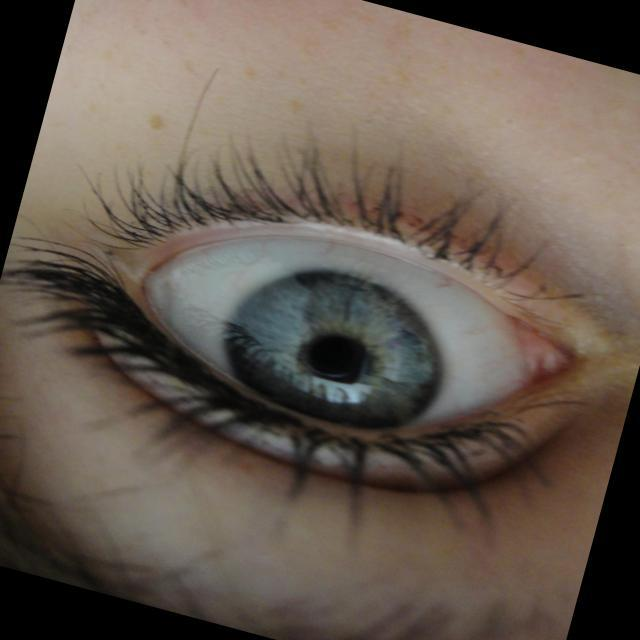Normal: (43, 145, 640, 536)
